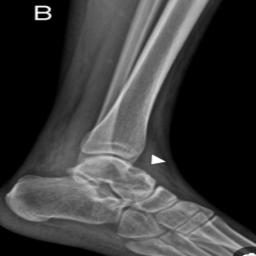cancer: (88, 160, 154, 203)
